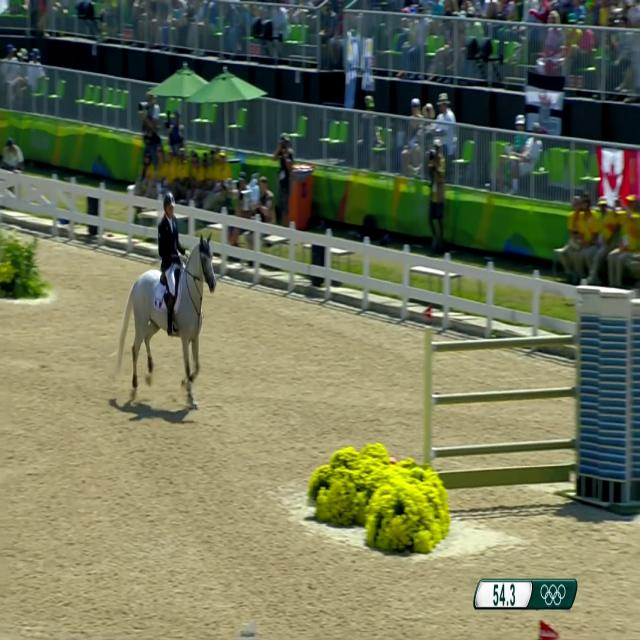Horse Rider: (150, 166, 198, 358)
Horse Running: (112, 224, 230, 425)
